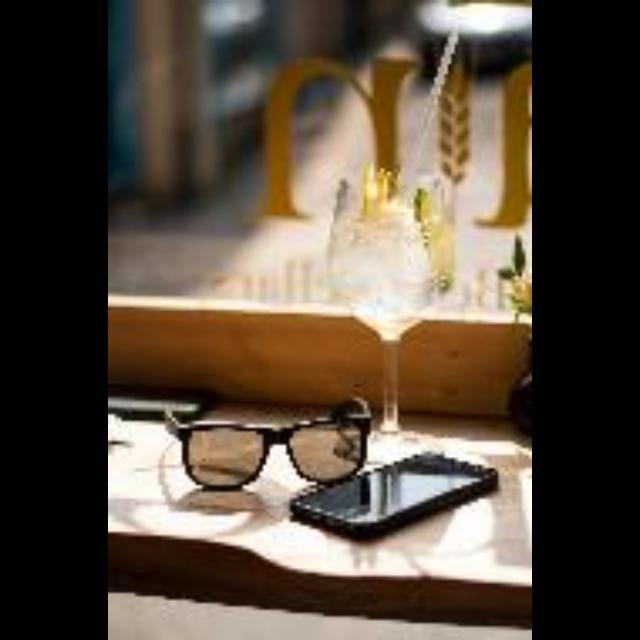Phone: (292, 452, 504, 538)
